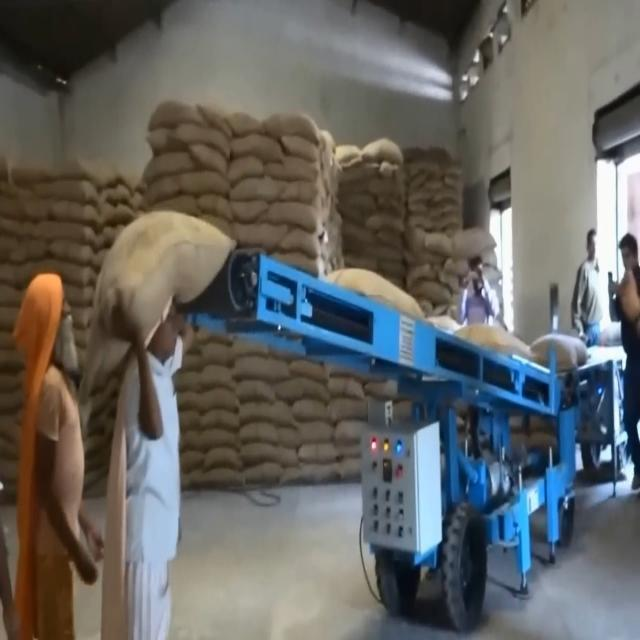gunny_bag: (90, 208, 238, 352), (316, 264, 427, 326), (456, 323, 530, 366), (260, 110, 324, 146), (534, 334, 592, 372), (175, 124, 236, 159), (143, 152, 209, 182), (269, 198, 326, 232), (146, 98, 206, 130), (231, 130, 289, 162), (279, 130, 329, 164), (190, 386, 243, 418), (228, 172, 288, 198), (33, 223, 98, 246), (37, 154, 99, 178), (40, 174, 93, 202), (242, 402, 299, 428), (358, 136, 406, 165), (242, 446, 302, 469), (357, 210, 410, 236), (198, 443, 246, 470), (198, 357, 238, 389), (225, 358, 289, 378), (288, 394, 334, 420), (234, 419, 278, 446), (278, 183, 329, 204), (294, 418, 336, 442), (232, 376, 272, 400), (367, 176, 404, 199)
